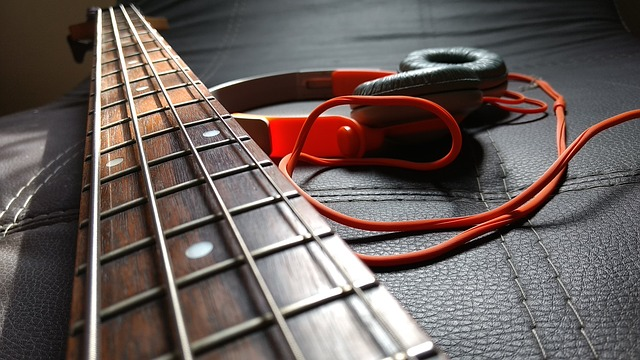headphones: (208, 49, 509, 159)
